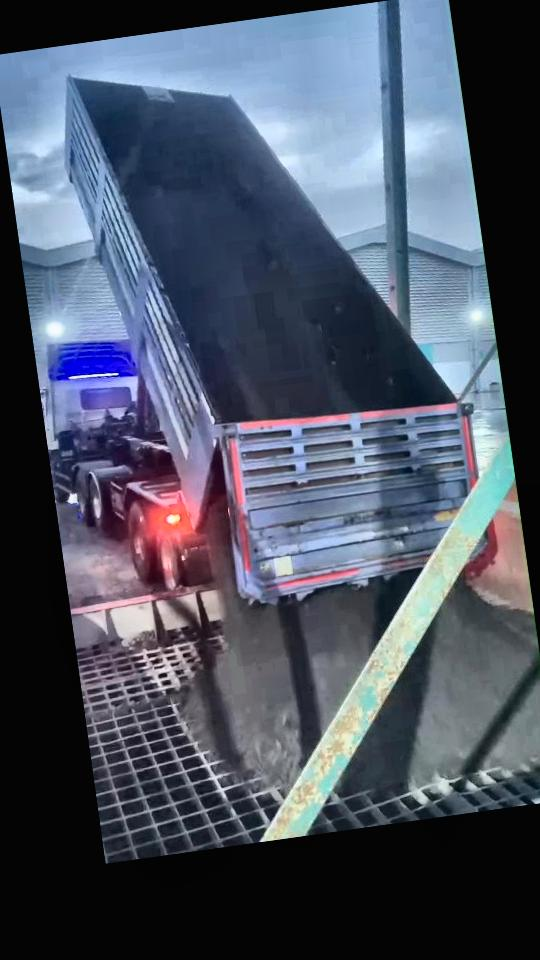gravel: (196, 495, 419, 789), (338, 580, 540, 795)
